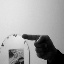g: (21, 32, 54, 61)
